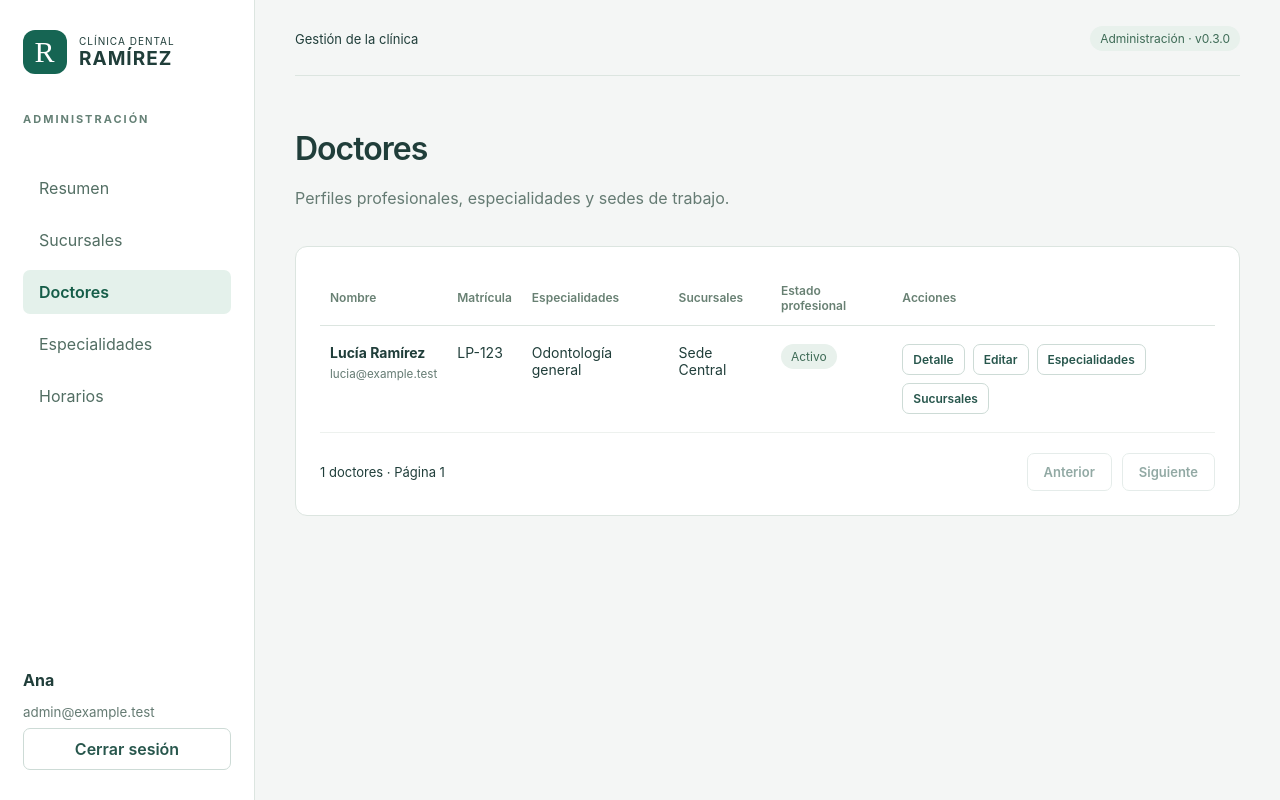
it: muestra horarios del detalle y el enlace a la semana con permiso
Click the button "Detalle": [933, 360] box [902,344,965,375]
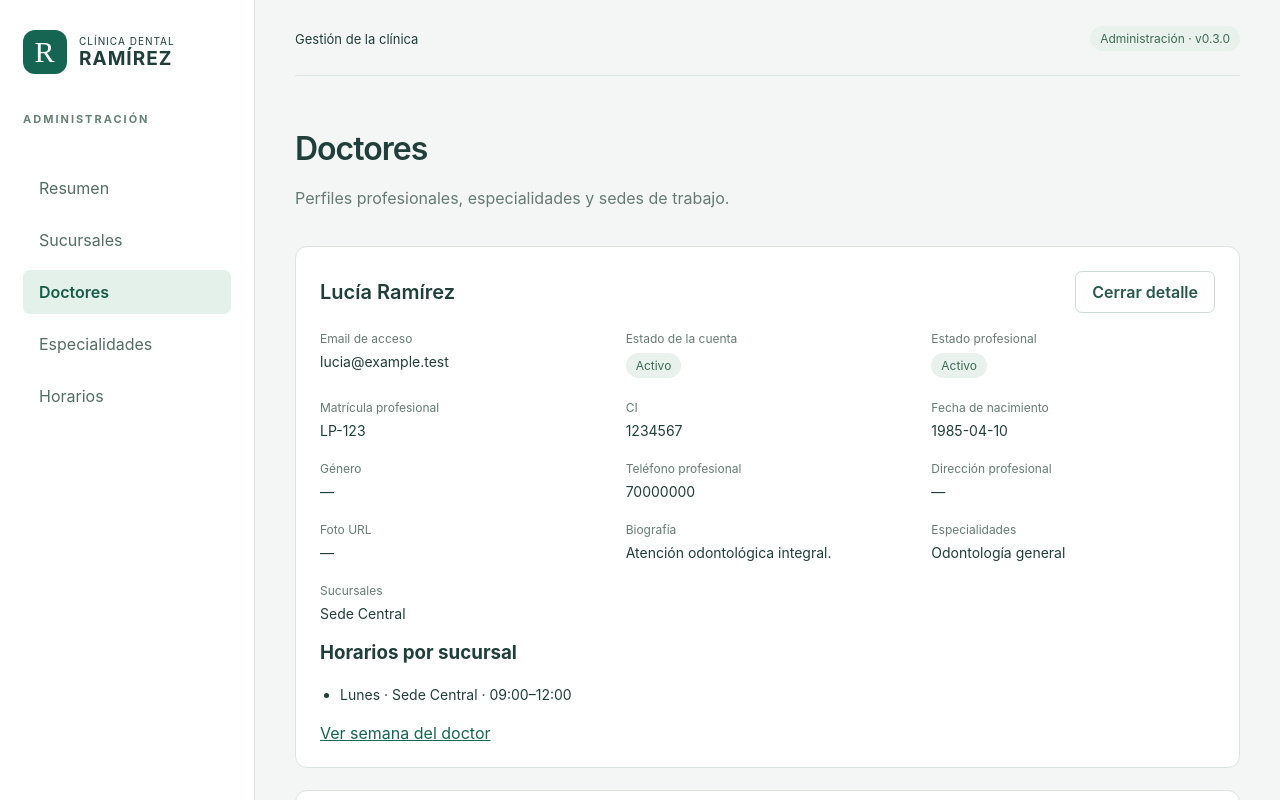
Now the list item "Lunes · Sede Central · 09:00–12:00" is shown, box [340,686,572,703]
